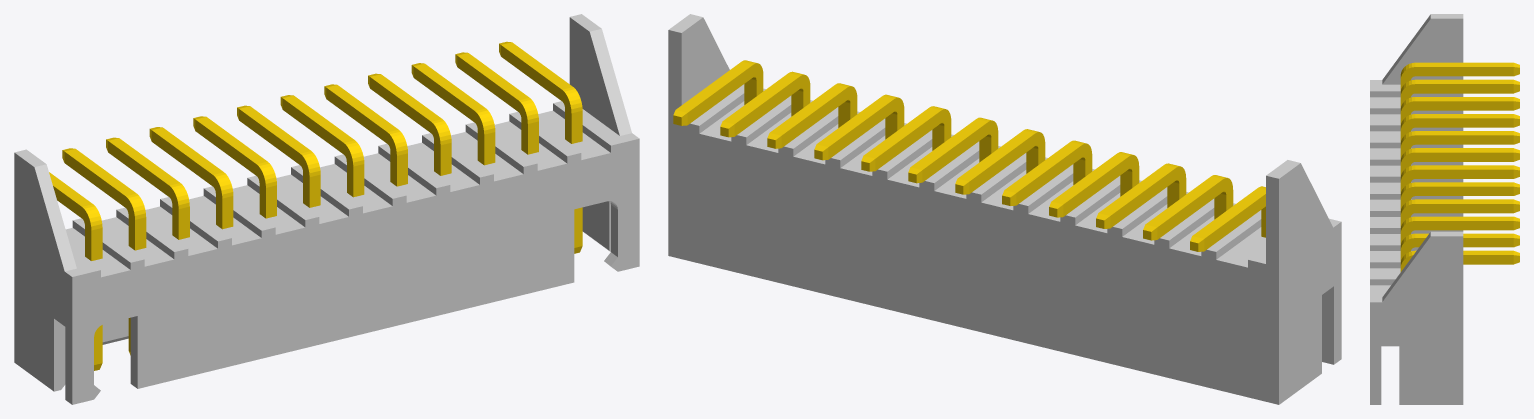
File: DS1069-12 CWF-12R.obj
3 renders of one model, left to right at view 1: azimuth 30°, elevation 25°; view 2: azimuth 150°, elevation 25°; view 3: azimuth 270°, elevation 25°, orthographic. The views are drawn at different scales.
Parts seen in each view (by area): view 1: DS1069-12_CWF-12R; view 2: DS1069-12_CWF-12R; view 3: DS1069-12_CWF-12R.
Boxes of the visible parts, x1,y1,x2,y2 form: DS1069-12_CWF-12R: (14,14,639,404); DS1069-12_CWF-12R: (668,14,1341,404); DS1069-12_CWF-12R: (1370,14,1519,404).
Bounding box in the file's own units: 0.0161 × 0.00569 × 0.00458.
